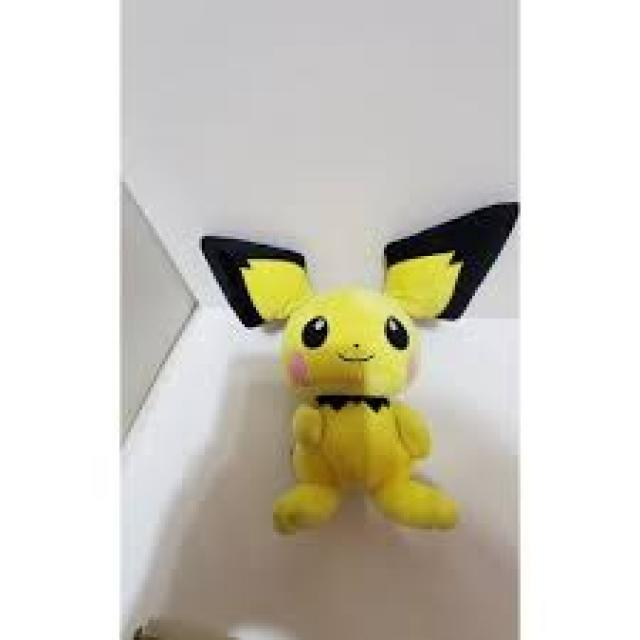pichu: (210, 192, 510, 530)
